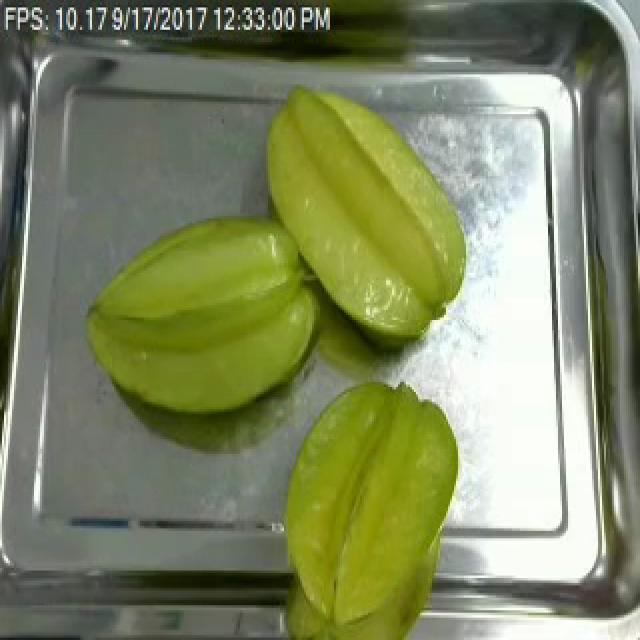fruit: (248, 79, 476, 350), (72, 204, 338, 429), (266, 372, 468, 638)
